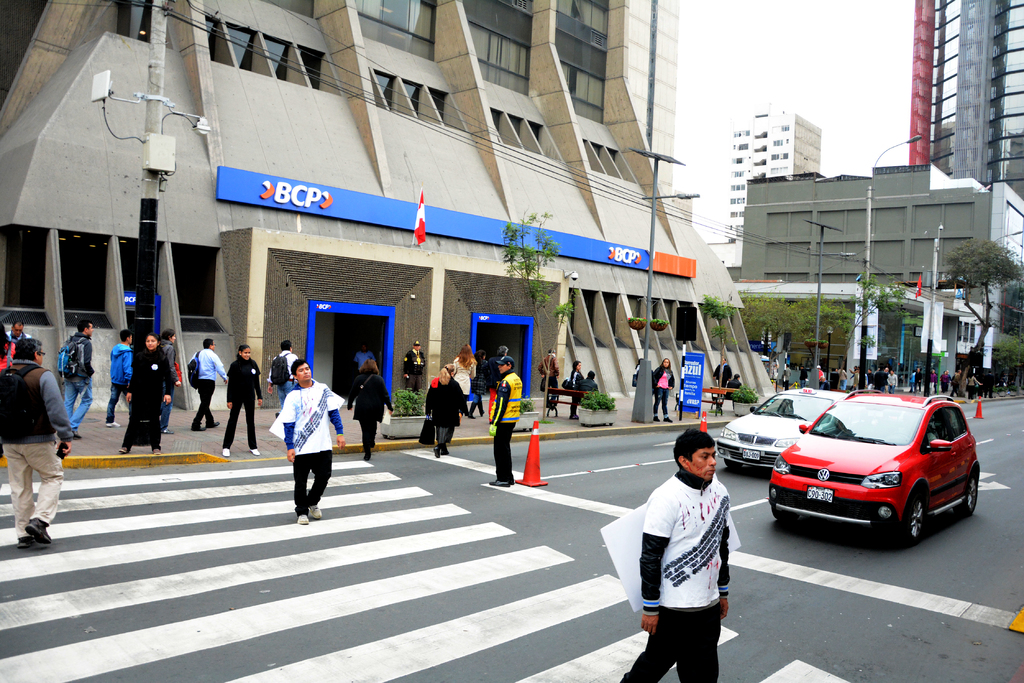Car: (764, 388, 979, 544), (714, 385, 862, 469)
